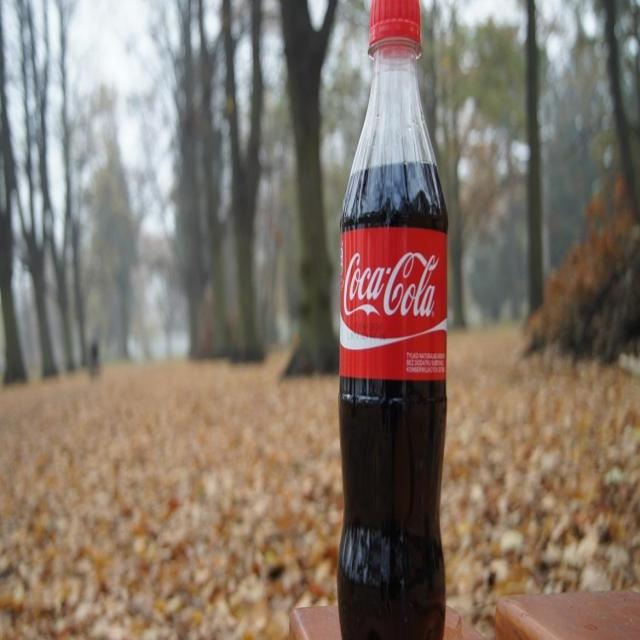bottle: (330, 11, 450, 607)
